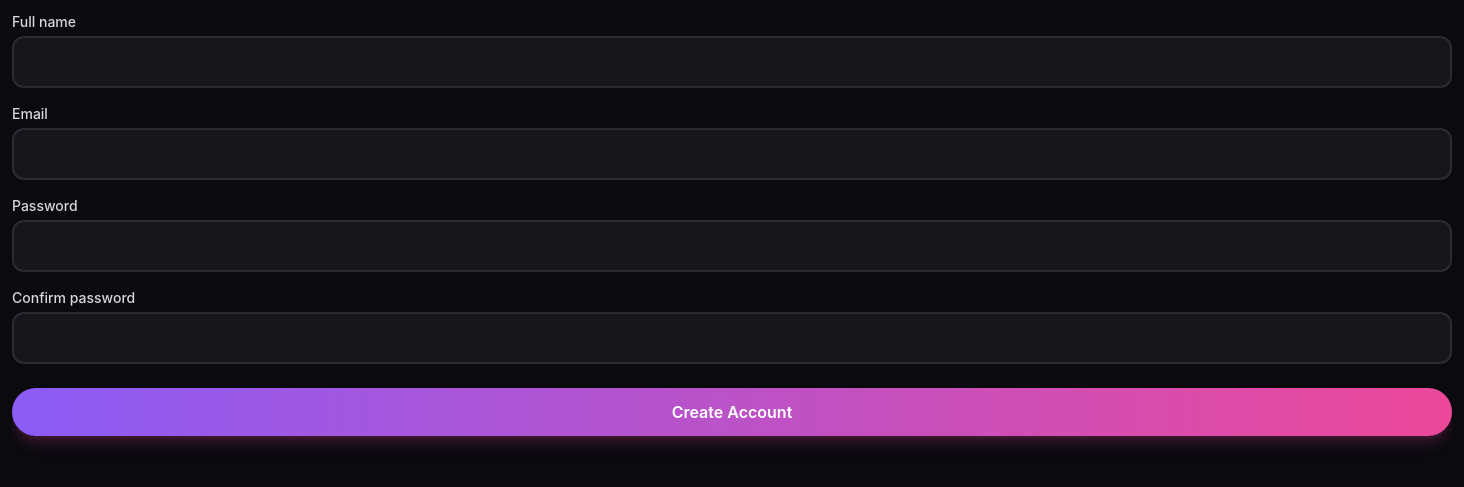
Test: RegisterForm › rejects mismatched passwords
In the field labelled "Email": (732, 154) [12, 128, 1452, 180], type "new@example.com"
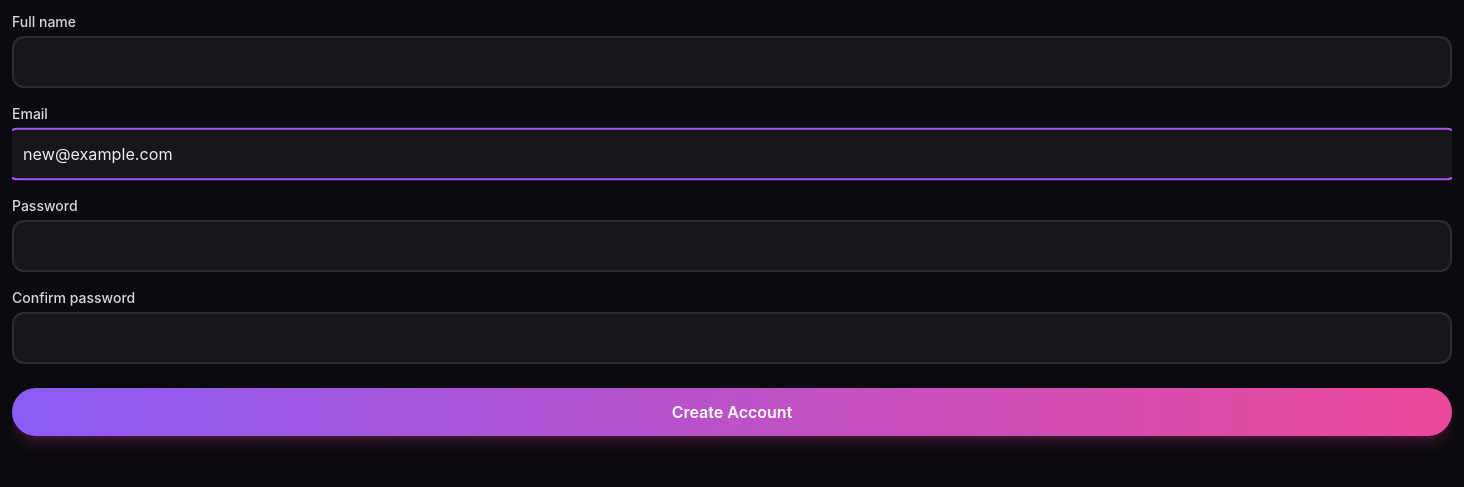
In the password field labelled "Password": (732, 246) [12, 220, 1452, 272], type "password123"
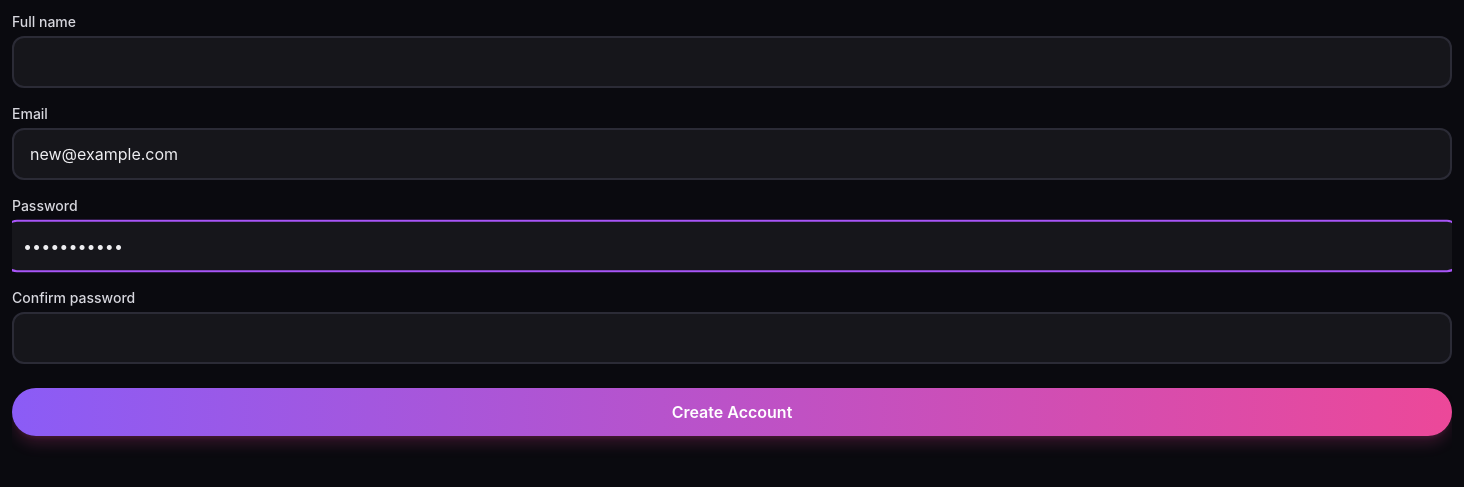
In the password field labelled "Confirm password": (732, 338) [12, 312, 1452, 364], type "password456"
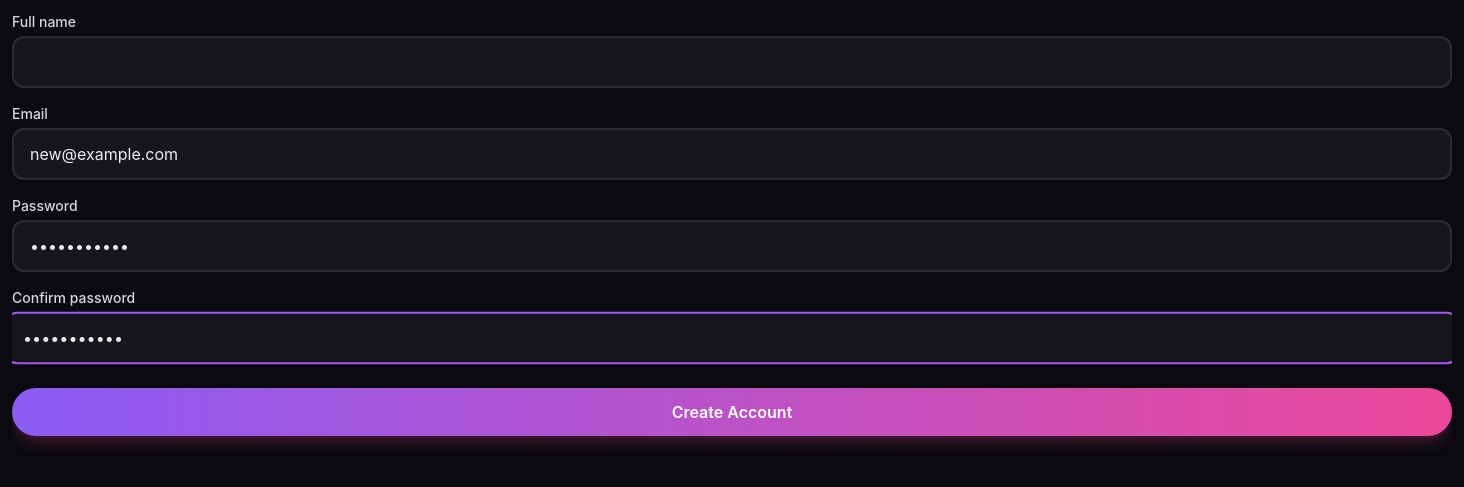
Click the button "Create Account": (732, 412) [12, 388, 1452, 436]
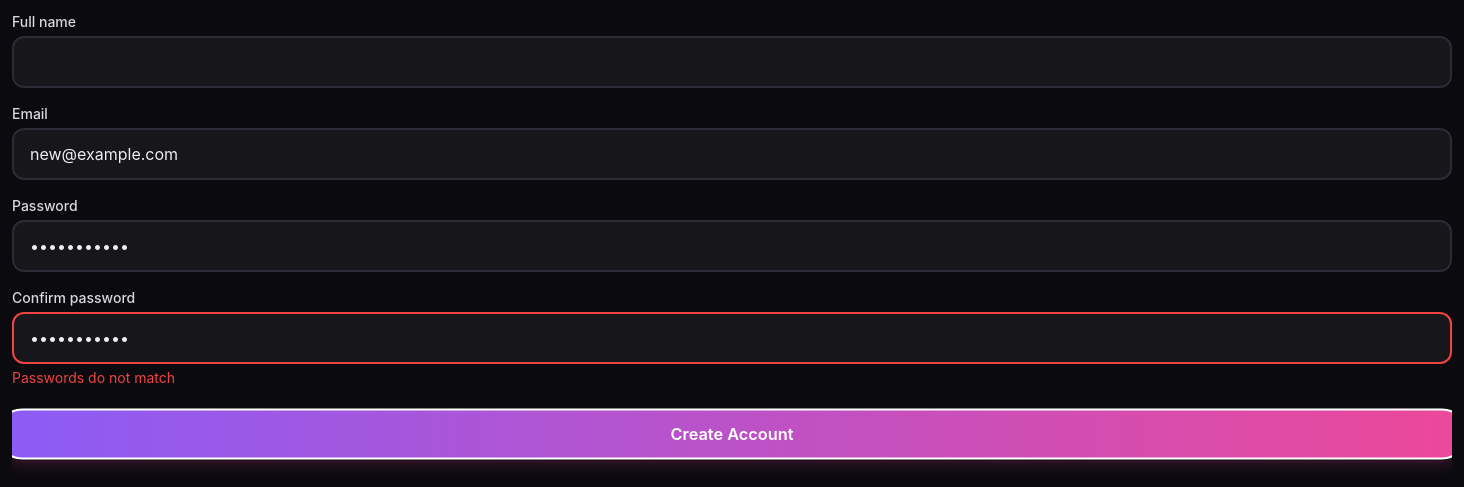
Check: the text "Passwords do not match" is shown, box [12, 369, 175, 386]
